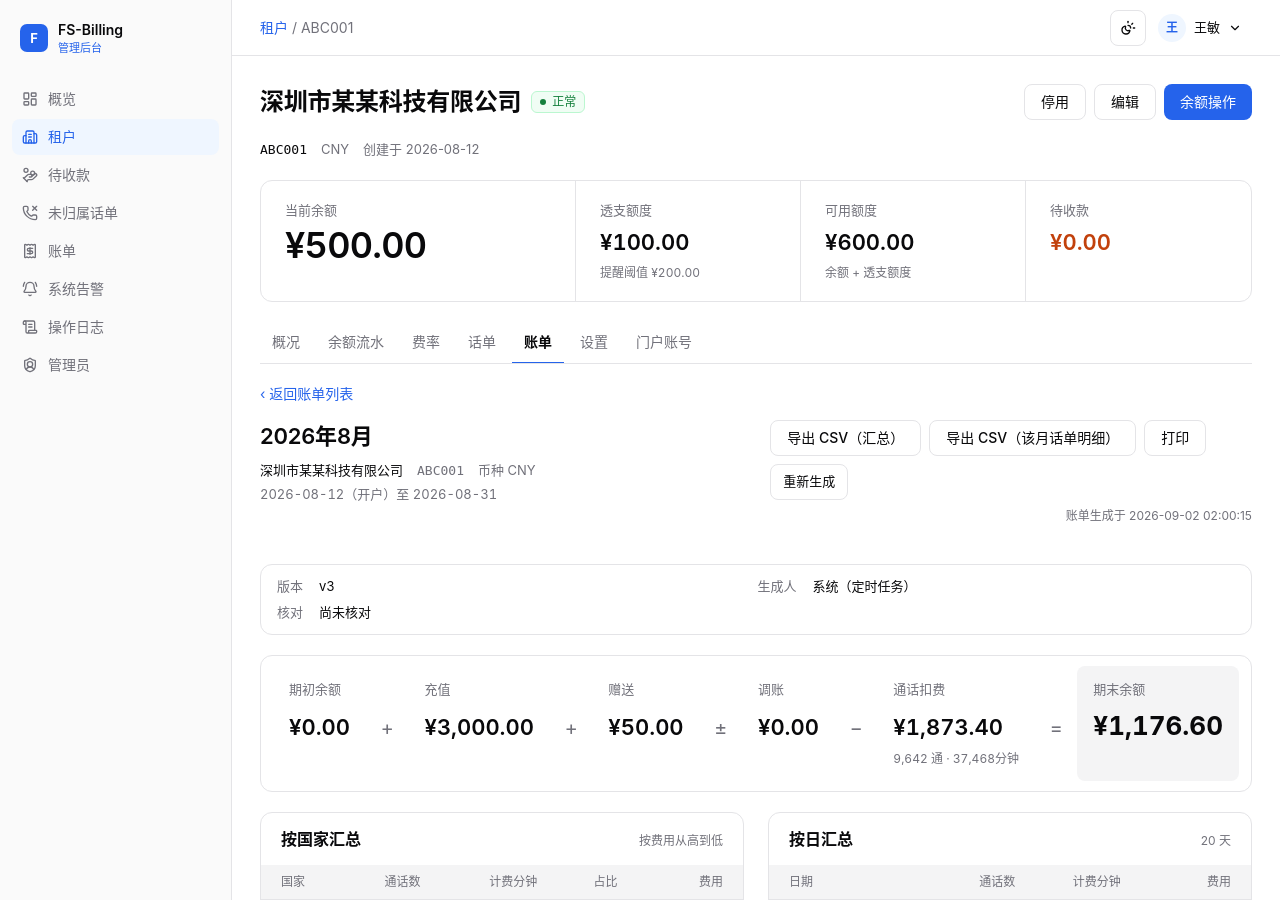
Test: admin statement detail › regenerates from the detail with the version it shows
The image size is (1280, 900).
Click the button with aria-label "重新生成 2026年8月" at (809, 482), box [770, 464, 848, 500]
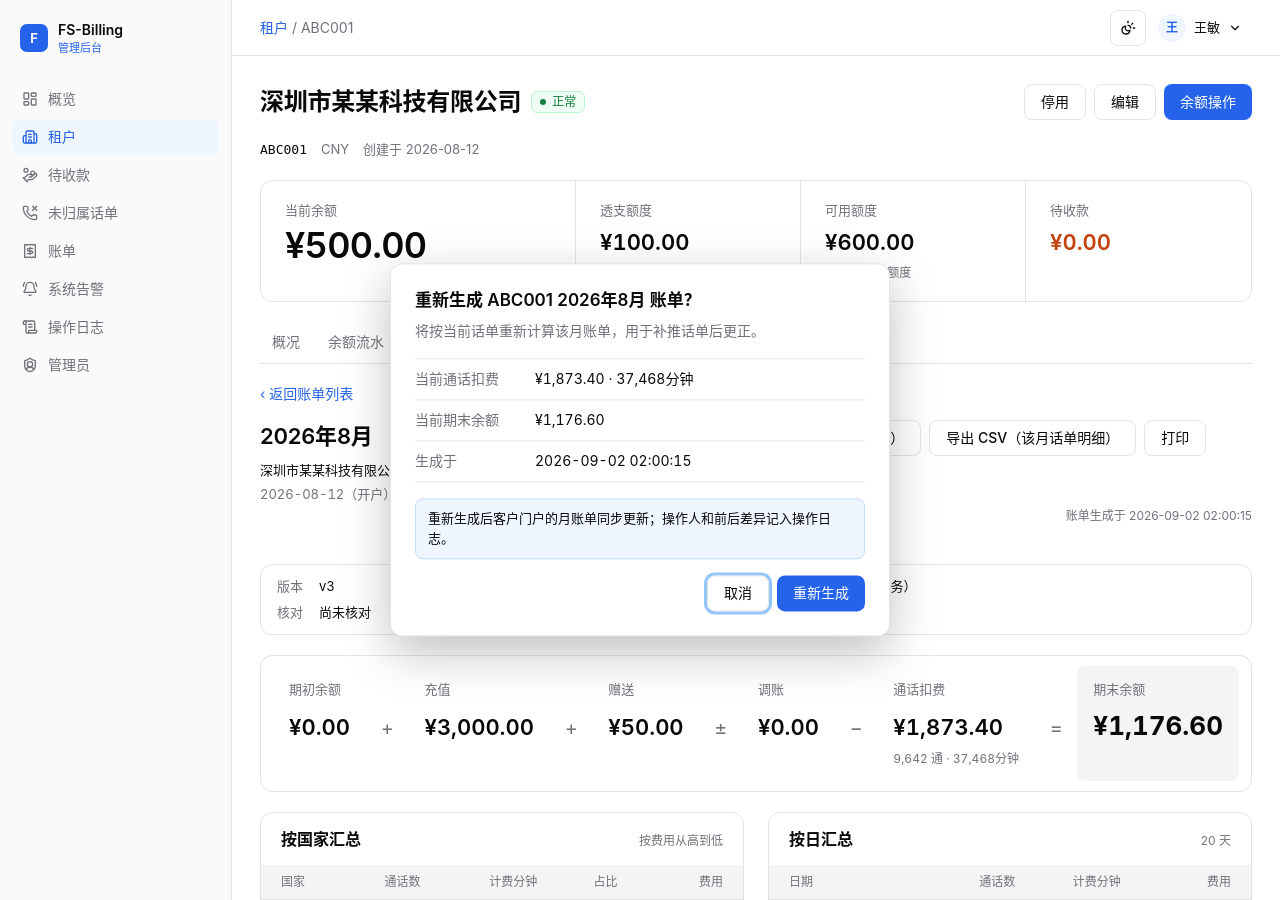
Click the button "重新生成" at (821, 594), box [777, 576, 865, 612]
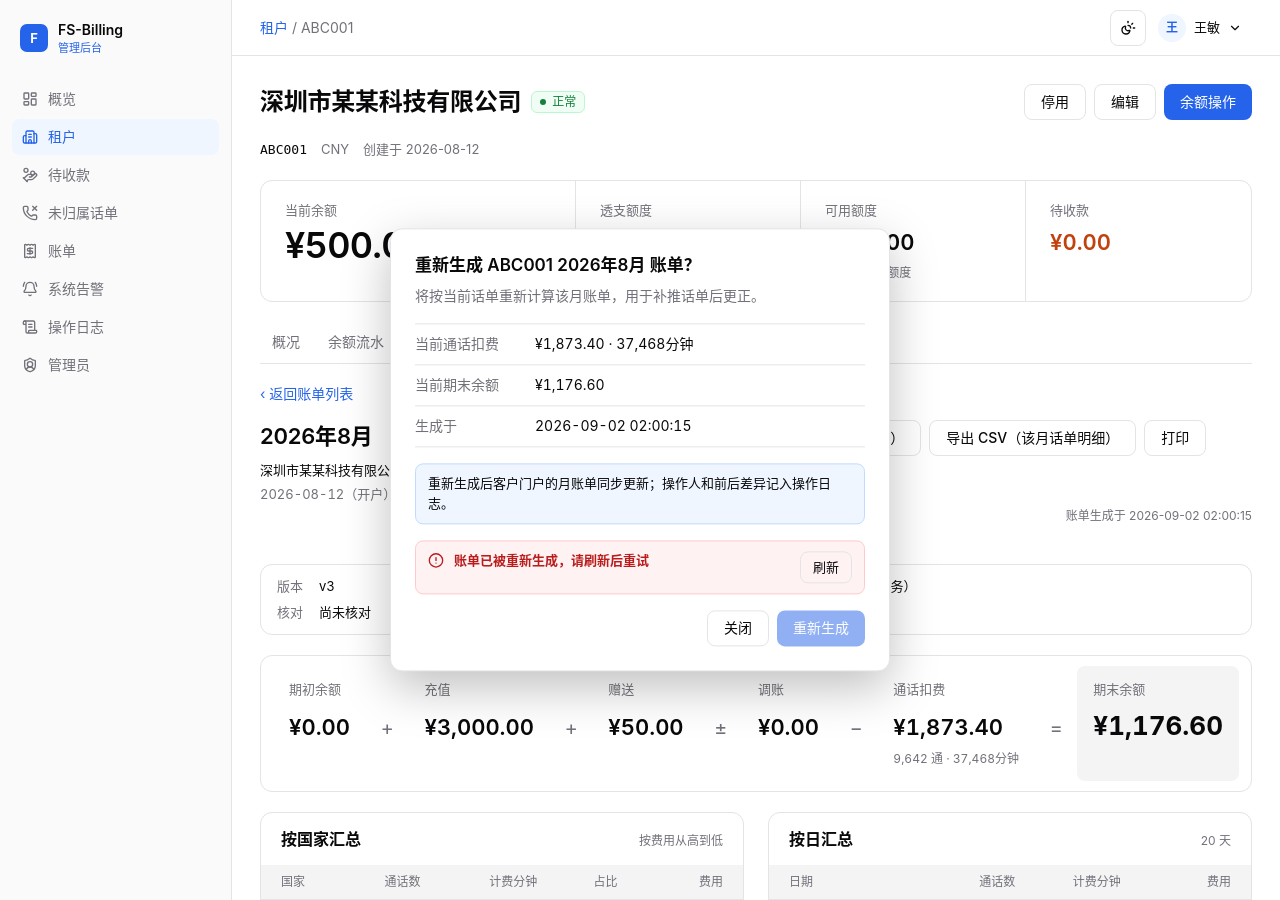
Expected: the text "账单已被重新生成，请刷新后重试" is shown, [454, 553, 649, 569]
